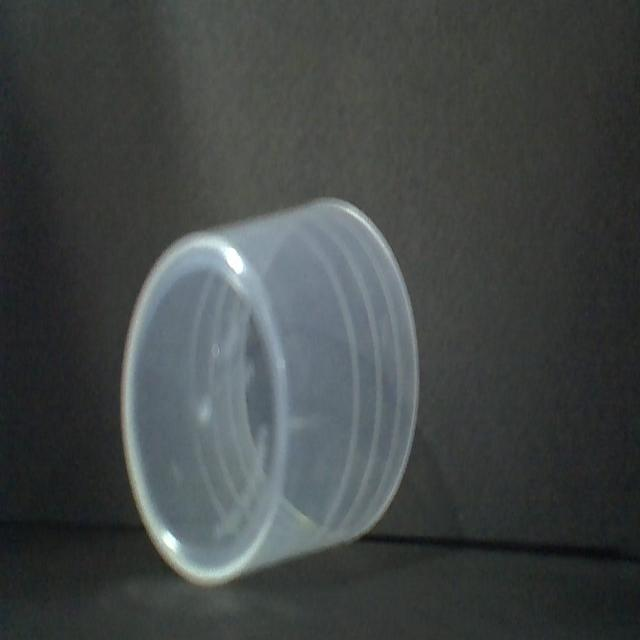cup: (114, 191, 423, 605)
